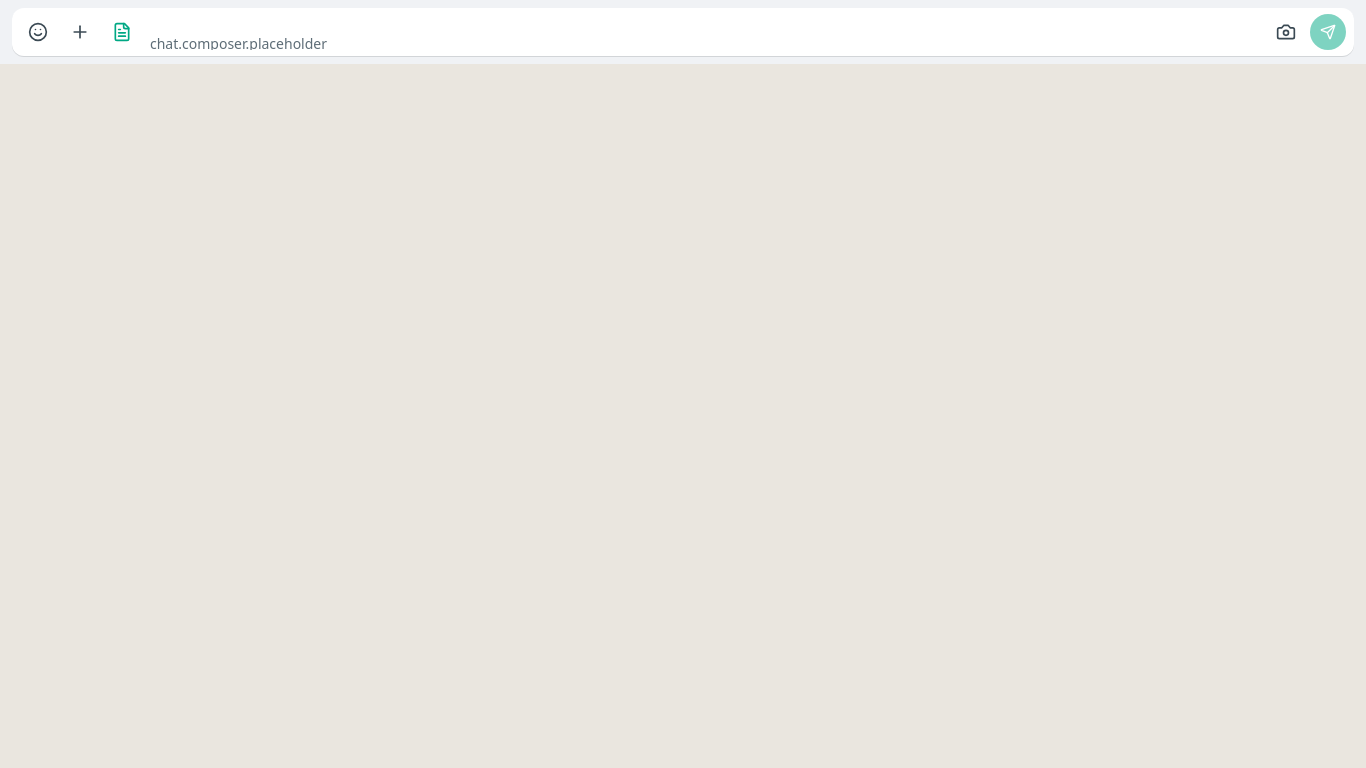
Composer › #emoji-insert: inserts emoji at cursor
The image size is (1366, 768).
Type "Hello " into the text box with placeholder "chat.composer.placeholder" at (704, 40), box [146,30,1262,50]
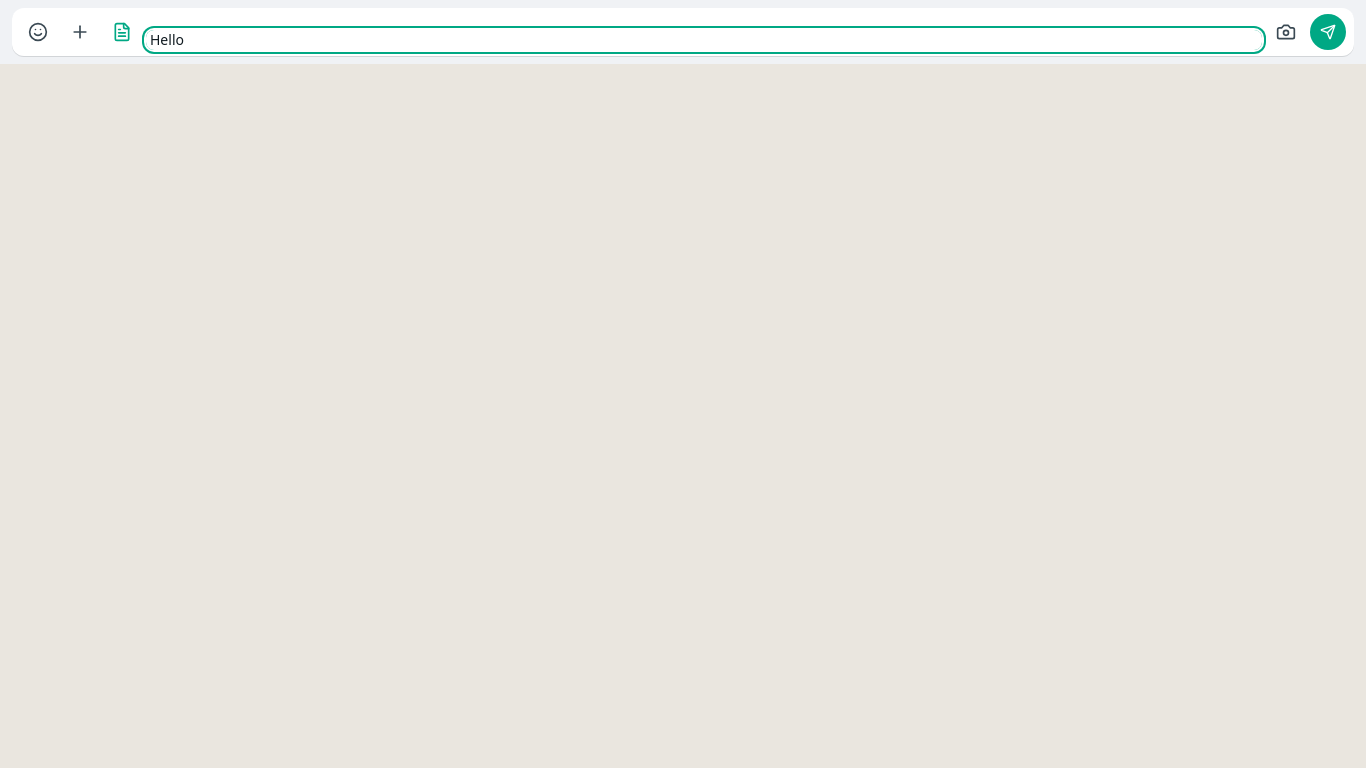
Click the button named "chat.composer.emoji" at (38, 32), box [20,14,56,50]
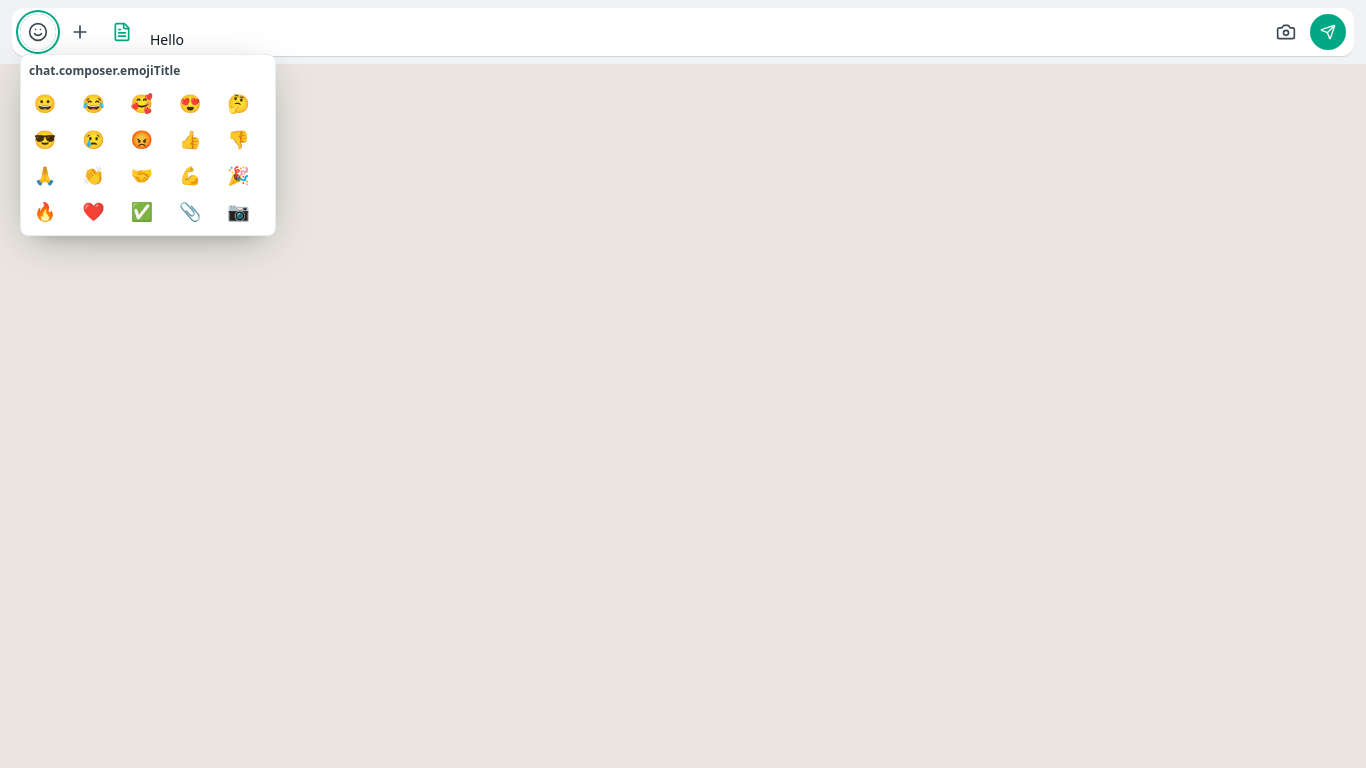
Click the button "😀" at (45, 103), box [29,87,61,119]
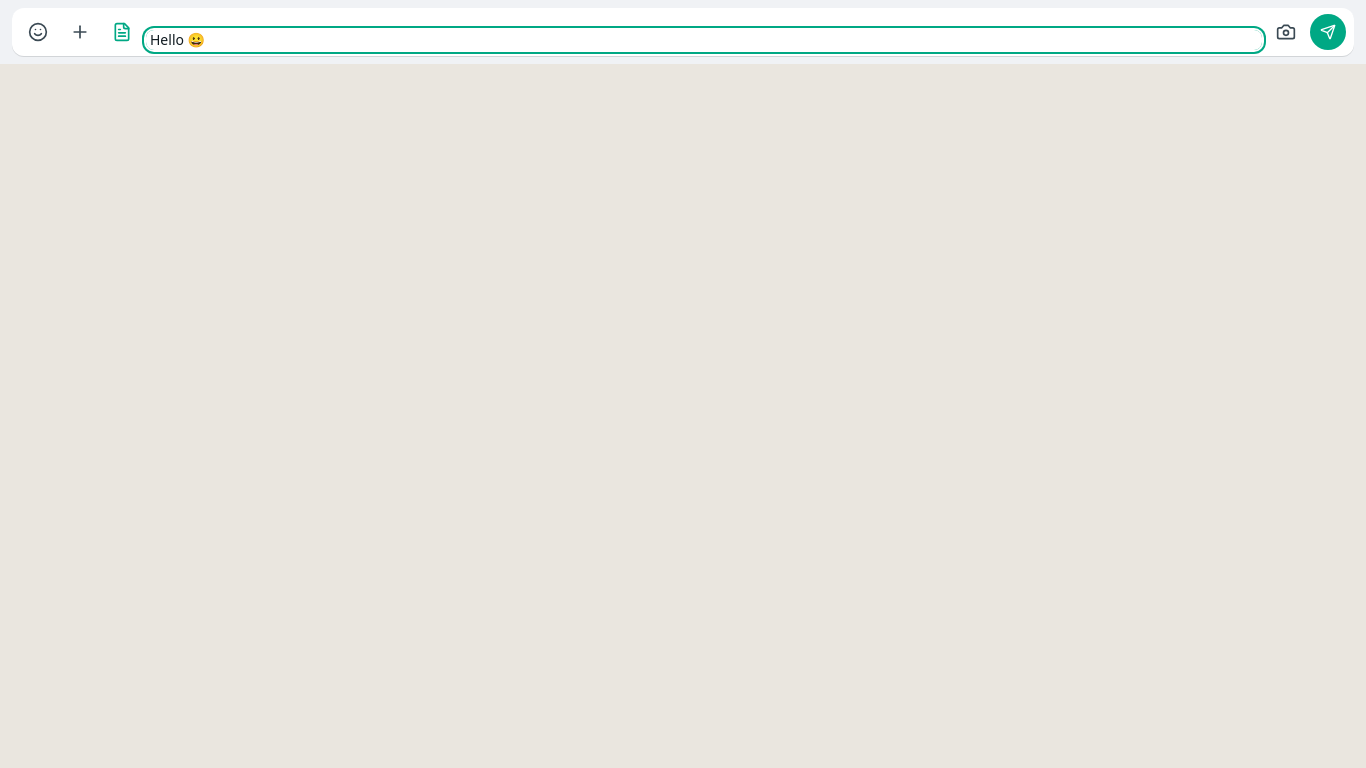
Now the text box with placeholder "chat.composer.placeholder" holds "Hello 😀", box [146,30,1262,50]
